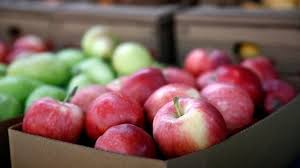apple: (153, 98, 225, 154), (21, 99, 87, 149), (83, 90, 142, 136), (203, 63, 266, 103), (97, 122, 158, 162), (146, 83, 202, 124), (180, 47, 233, 84), (206, 85, 254, 125), (114, 63, 160, 98), (260, 75, 297, 112)
